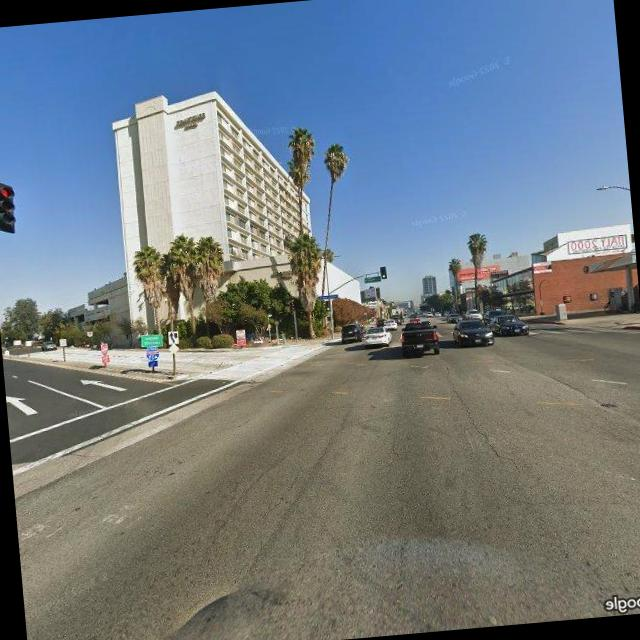pothole: (444, 362, 522, 479)
